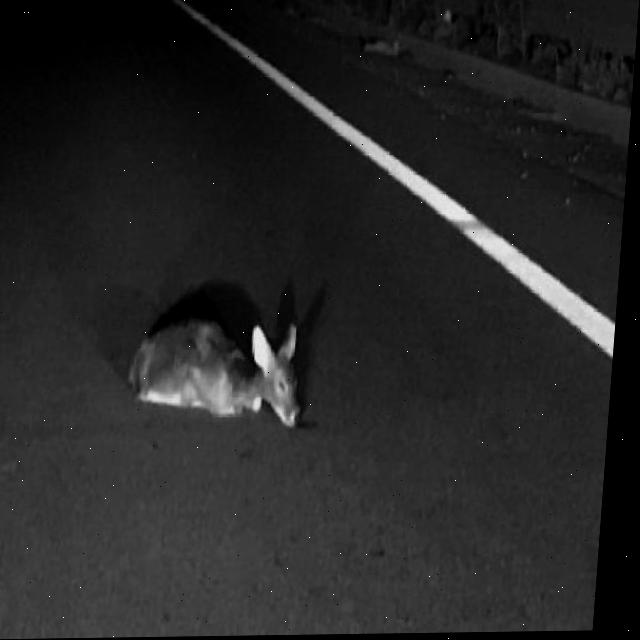Deer: (116, 285, 318, 439)
